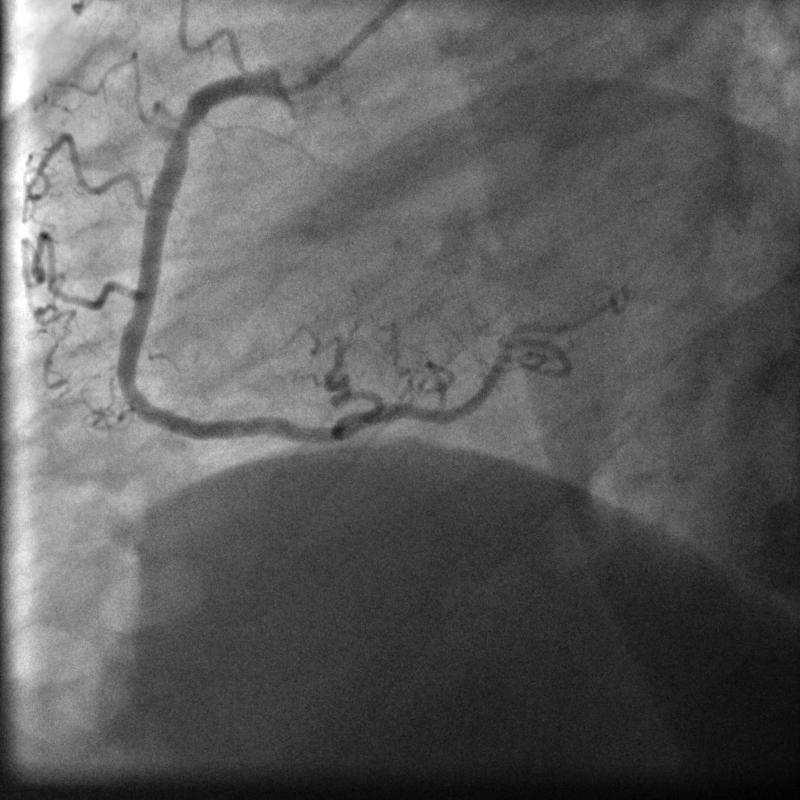Stenosis: (176, 94, 208, 152)
